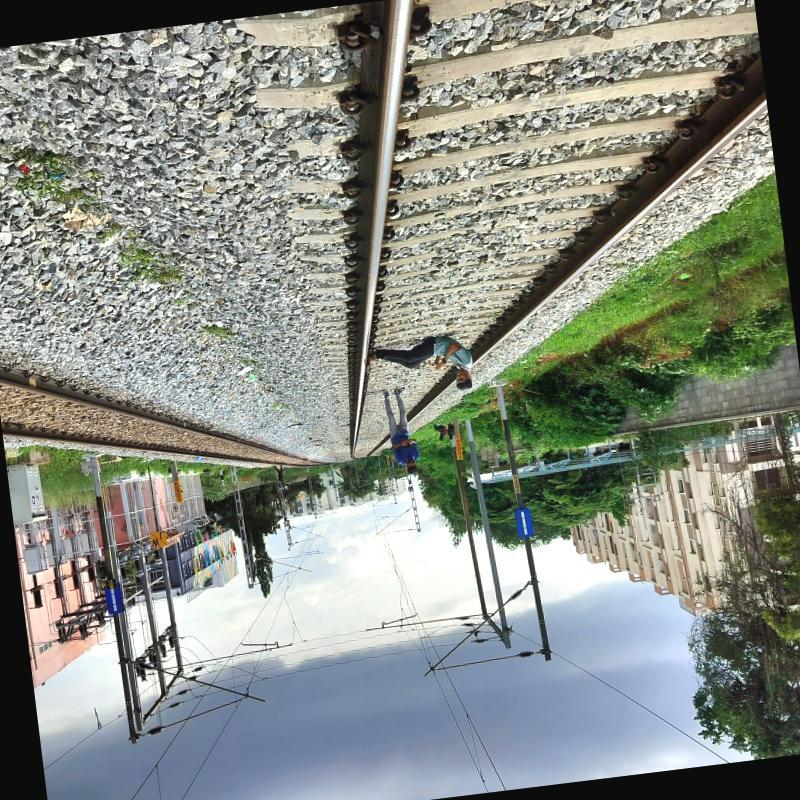sleeping: (360, 330, 477, 401)
